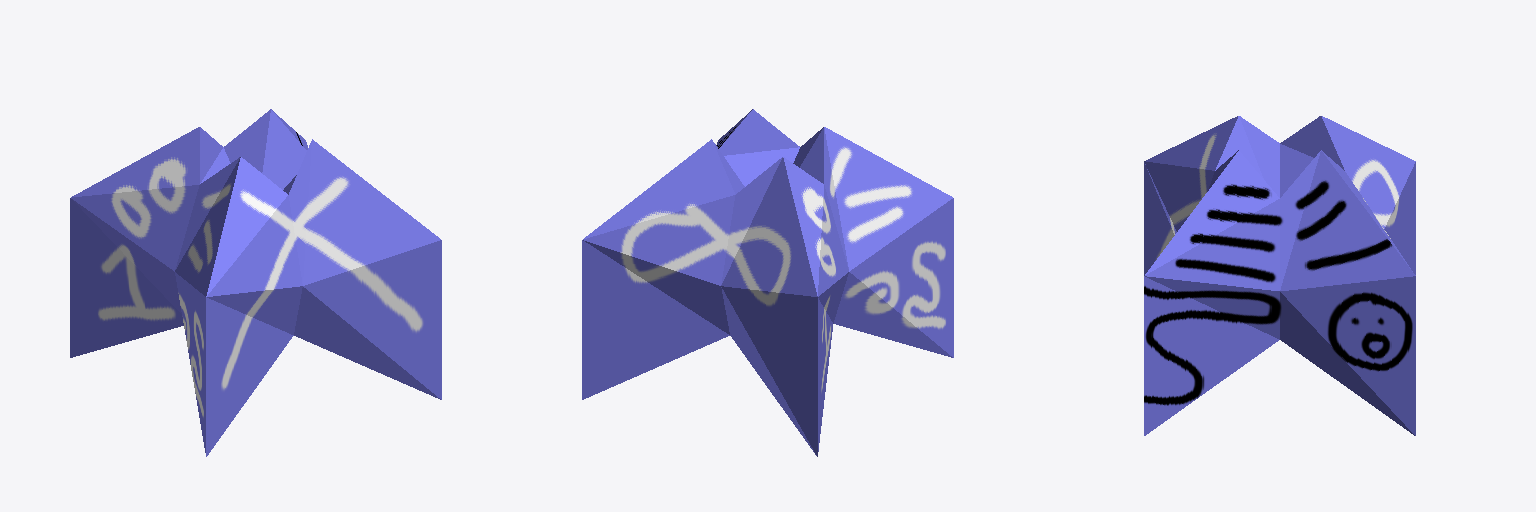
3 renders of one model, left to right at view 1: azimuth 30°, elevation 25°; view 2: azimuth 150°, elevation 25°; view 3: azimuth 270°, elevation 25°, orthographic.
Parts seen in each view (by area): view 1: Cube; view 2: Cube; view 3: Cube.
Boxes of the visible parts, x1,y1,x2,y2 form: Cube: [70, 109, 441, 456]; Cube: [582, 109, 953, 456]; Cube: [1144, 116, 1415, 435].
Size of the model in its own units: 2 by 2 by 2.
1 materials, 1 textured.